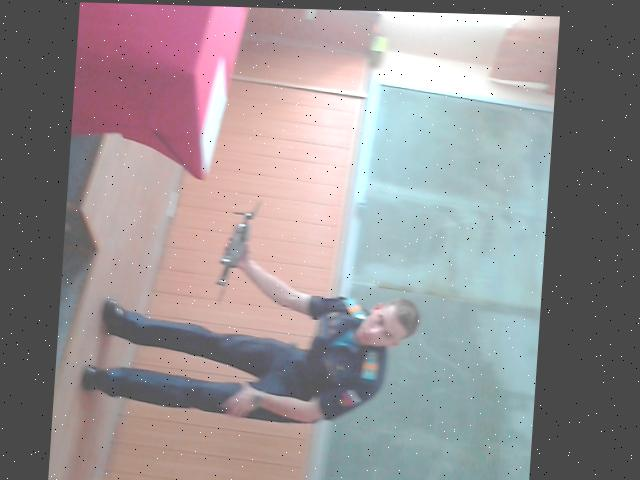drone: (211, 191, 276, 301)
